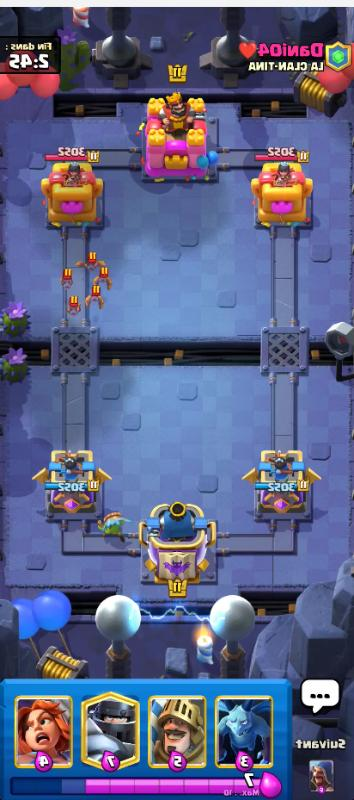bat: (54, 266, 74, 293), (82, 285, 106, 307), (87, 272, 115, 289), (63, 296, 82, 317), (80, 254, 102, 272)
